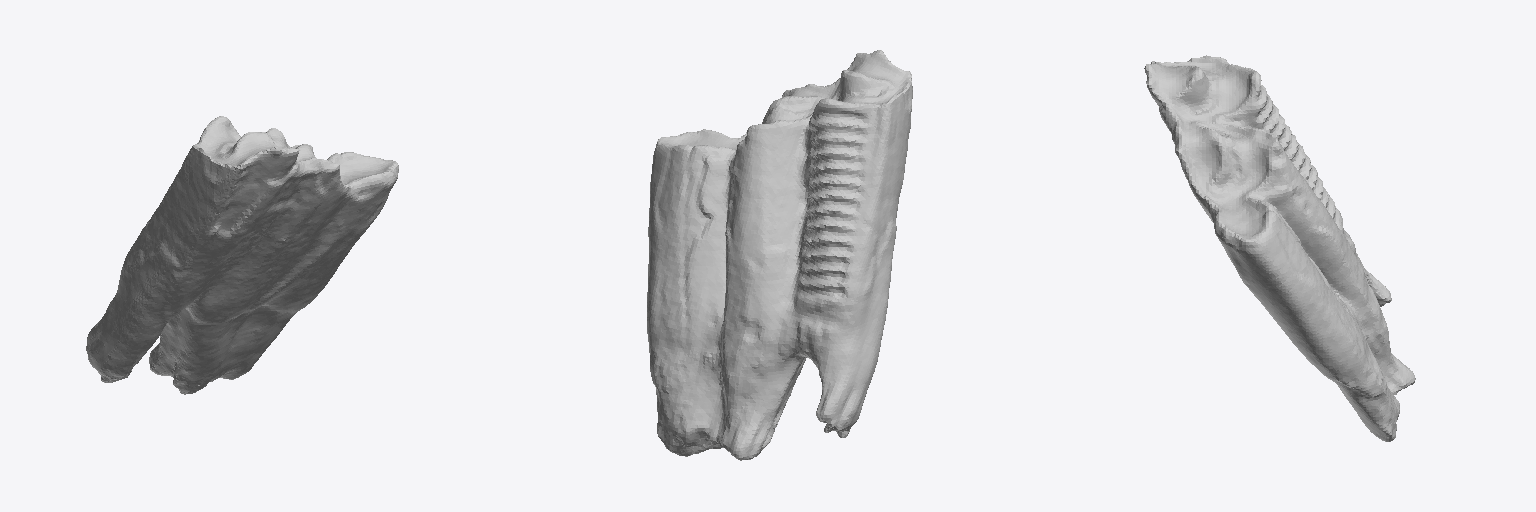
The model's file is MB Ovis 2 M3.obj.
The picture shows the model from 3 angles: view 1: azimuth 30°, elevation 25°; view 2: azimuth 150°, elevation 25°; view 3: azimuth 270°, elevation 25°; orthographic projection.
Bounding box in the file's own units: 26.05 × 33.47 × 24.36.